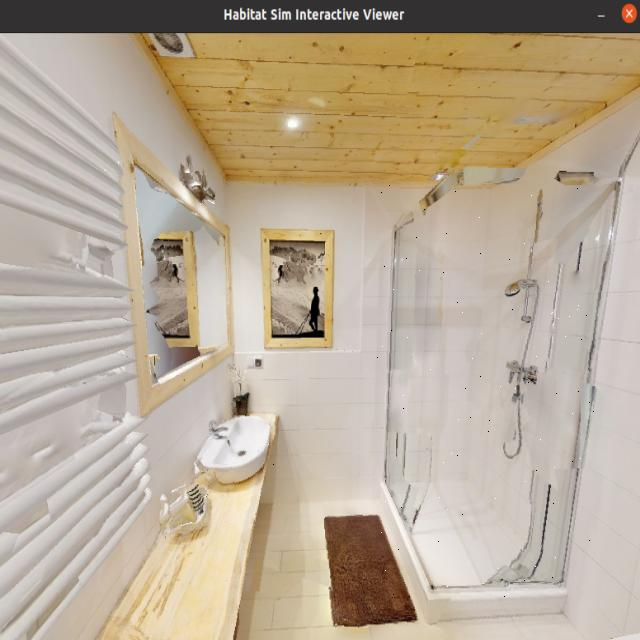shower: (372, 185, 596, 597)
sink: (192, 400, 280, 483)
